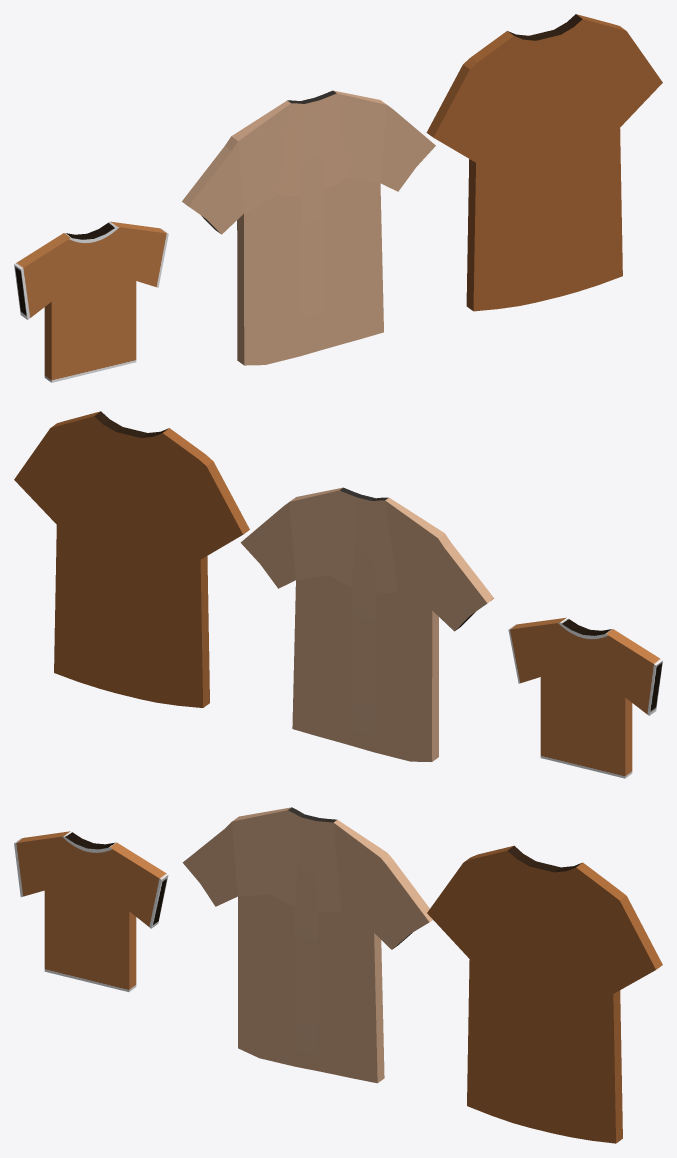
Rendered from T-Shirts (3).FBX.
3 renders of one model, top to bottom at view 1: azimuth 30°, elevation 25°; view 2: azimuth 150°, elevation 25°; view 3: azimuth 330°, elevation 25°, orthographic.
Parts seen in each view (by area): view 1: Box002, Box003, Box001; view 2: Box002, Box003, Box001; view 3: Box002, Box003, Box001.
Part boxes in pixels (box(x1,y1,x2,y2)): Box002: box(426, 14, 662, 311); Box003: box(182, 90, 435, 365); Box001: box(14, 221, 168, 382); Box002: box(14, 411, 249, 707); Box003: box(240, 487, 494, 761); Box001: box(508, 617, 662, 778); Box002: box(427, 845, 662, 1143); Box003: box(182, 807, 432, 1083); Box001: box(14, 831, 168, 991).
Size of the model in its own units: 114 by 45.98 by 2.3.
